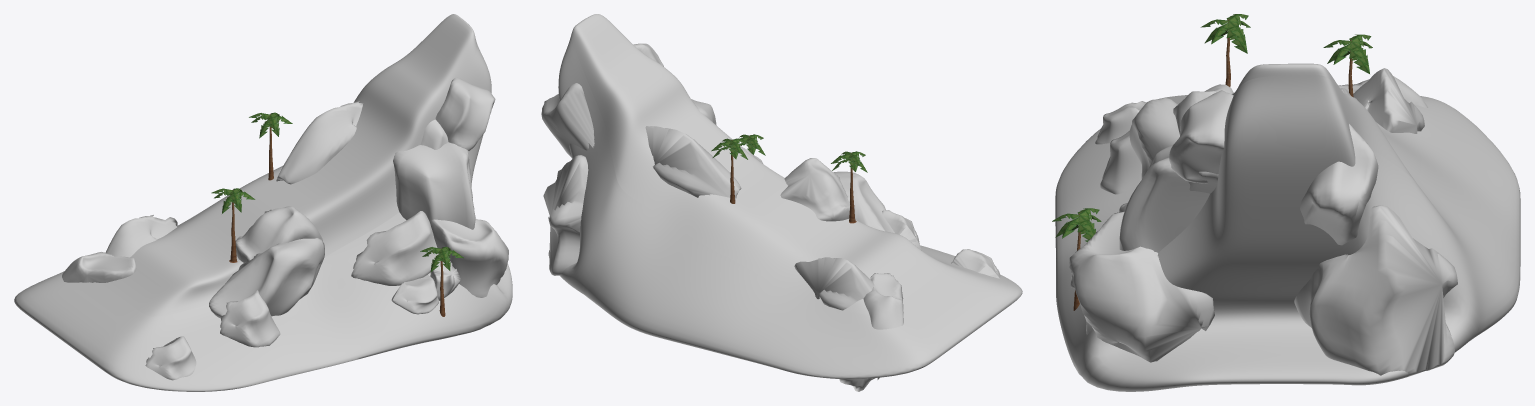
The model's file is large island left side.fbx.
3 renders of one model, left to right at view 1: azimuth 30°, elevation 25°; view 2: azimuth 150°, elevation 25°; view 3: azimuth 270°, elevation 25°, orthographic. The views are drawn at different scales.
Visible parts, largest first — view 1: Big island, Medium rock.005, Medium rock.008, Medium rock.001, Medium rock.010, Medium rock.007, Medium rock.003, Medium rock.012, Medium rock.006, Medium rock.017, Medium rock.016, Medium rock.019 (+6 smaller); view 2: Big island, Medium rock.007, Medium rock.009, Medium rock.012, Medium rock.016, Medium rock.004, Medium rock.017, Medium rock.008, Medium rock.019, Medium rock.006, Trunk.006, Trunk.007; view 3: Big island, Medium rock.009, Medium rock.010, Medium rock.005, Medium rock.004, Medium rock.003, Medium rock.016, Medium rock.008, Medium rock.006, Trunk.006, Trunk.007, Medium rock.019 (+4 smaller).
Part boxes in pixels (x1,y1,x2,y2): Big island: (14, 14, 512, 391); Medium rock.005: (393, 142, 475, 229); Medium rock.008: (209, 238, 324, 318); Medium rock.001: (351, 211, 439, 285); Medium rock.010: (429, 219, 508, 297); Medium rock.007: (276, 100, 363, 184); Medium rock.003: (435, 77, 495, 150); Medium rock.012: (235, 206, 322, 262); Medium rock.006: (220, 290, 280, 347); Medium rock.017: (62, 252, 136, 282); Medium rock.016: (105, 215, 177, 257); Medium rock.019: (145, 336, 196, 380); Big island: (548, 14, 1022, 378); Medium rock.007: (645, 126, 741, 198); Medium rock.009: (543, 155, 588, 275); Medium rock.012: (780, 158, 854, 221); Medium rock.016: (794, 257, 874, 310); Medium rock.004: (541, 83, 594, 157); Medium rock.017: (839, 273, 903, 391); Medium rock.008: (834, 171, 894, 233); Medium rock.019: (951, 249, 1000, 278); Medium rock.006: (882, 210, 921, 250); Trunk.006: (831, 151, 867, 223); Trunk.007: (711, 138, 747, 203); Big island: (1055, 63, 1520, 391); Medium rock.009: (1294, 205, 1457, 376); Medium rock.010: (1069, 211, 1214, 362); Medium rock.005: (1119, 145, 1209, 252); Medium rock.004: (1300, 124, 1378, 245); Medium rock.003: (1169, 90, 1233, 183); Medium rock.016: (1353, 68, 1424, 133); Medium rock.008: (1129, 98, 1179, 178); Medium rock.006: (1100, 131, 1141, 194); Trunk.006: (1200, 14, 1250, 86); Trunk.007: (1323, 34, 1372, 97); Medium rock.019: (1095, 101, 1146, 144).
Size of the model in its own units: 3699 by 2163 by 2442.
